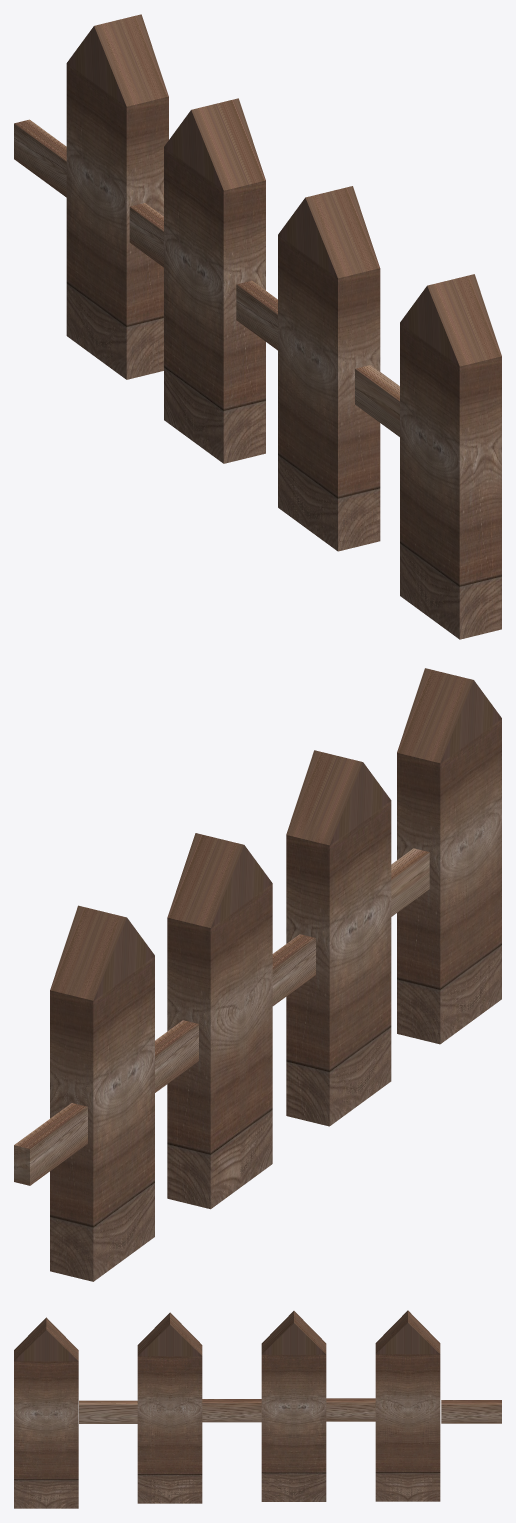
The model's file is Cerca.fbx.
The picture shows the model from 3 angles, top to bottom: view 1: azimuth 30°, elevation 25°; view 2: azimuth 150°, elevation 25°; view 3: azimuth 270°, elevation 25°; orthographic projection. The views are drawn at different scales.
Visible parts, largest first — view 1: Cube.007, Cube, Cube.002, Cube.005, Cube.006, Cube.003, Cube.001, Cube.004; view 2: Cube, Cube.002, Cube.007, Cube.005, Cube.006, Cube.004, Cube.001, Cube.003; view 3: Cube, Cube.005, Cube.002, Cube.007, Cube.006, Cube.001, Cube.003, Cube.004.
Part boxes in pixels (x1,y1,x2,y2): Cube.007: (400,274,501,639); Cube: (278,186,380,551); Cube.002: (164,98,265,463); Cube.005: (66,14,168,379); Cube.006: (14,119,66,197); Cube.003: (355,365,399,436); Cube.001: (236,280,277,350); Cube.004: (129,203,163,267); Cube: (286,750,391,1126); Cube.002: (167,833,272,1209); Cube.007: (397,668,501,1044); Cube.005: (50,905,154,1281); Cube.006: (14,1103,87,1185); Cube.004: (155,1020,198,1092); Cube.001: (272,934,315,1005); Cube.003: (391,848,429,916); Cube: (137,1312,202,1503); Cube.005: (375,1310,440,1501); Cube.002: (261,1311,326,1501); Cube.007: (14,1317,78,1508); Cube.006: (441,1400,501,1423); Cube.001: (202,1399,261,1422); Cube.003: (79,1400,137,1423); Cube.004: (326,1398,375,1421).
Size of the model in its own units: 8.52 by 49.89 by 118.
